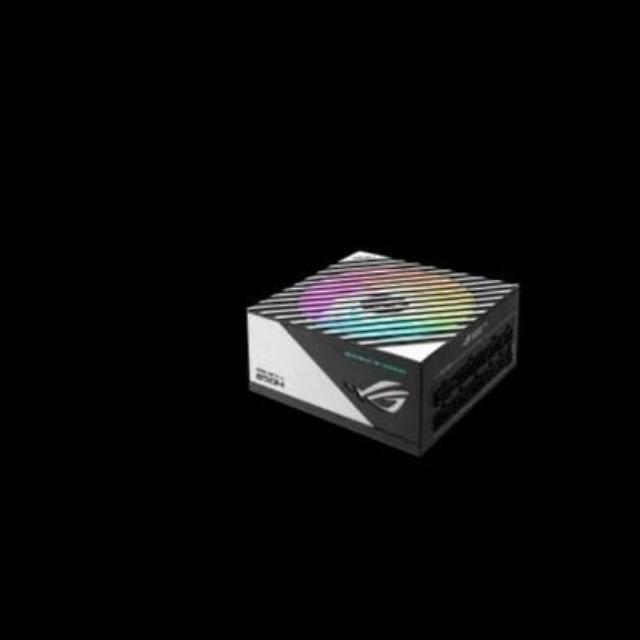PSU: (238, 225, 532, 467)
